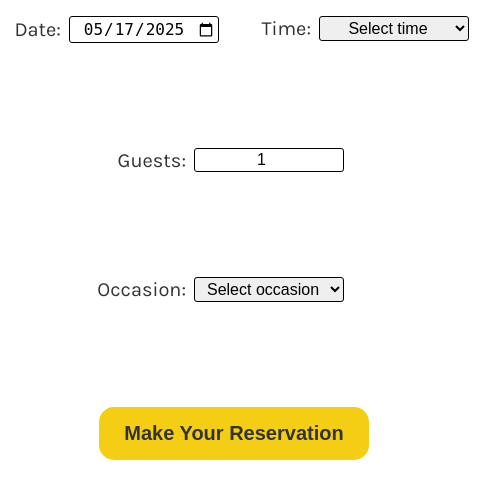
Input validation tests › shows an error message when time input is empty
Select "Select time" in the dropdown labelled "Time:": [394, 28] box [319,16,469,41]
Leave the dropdown labelled "Time:", box [319,16,469,41]
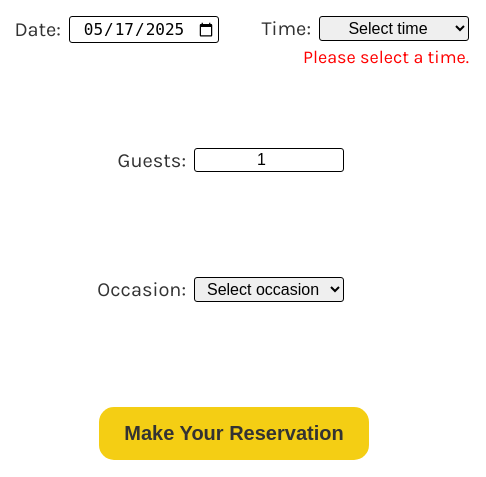
expect the text "Please select a time." is shown 2 times: met
